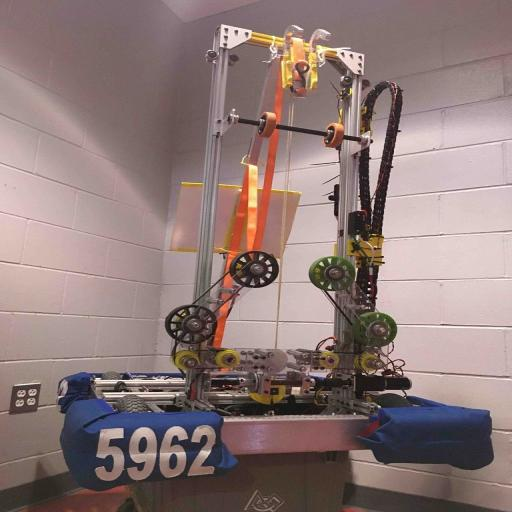robot: (57, 24, 495, 492)
